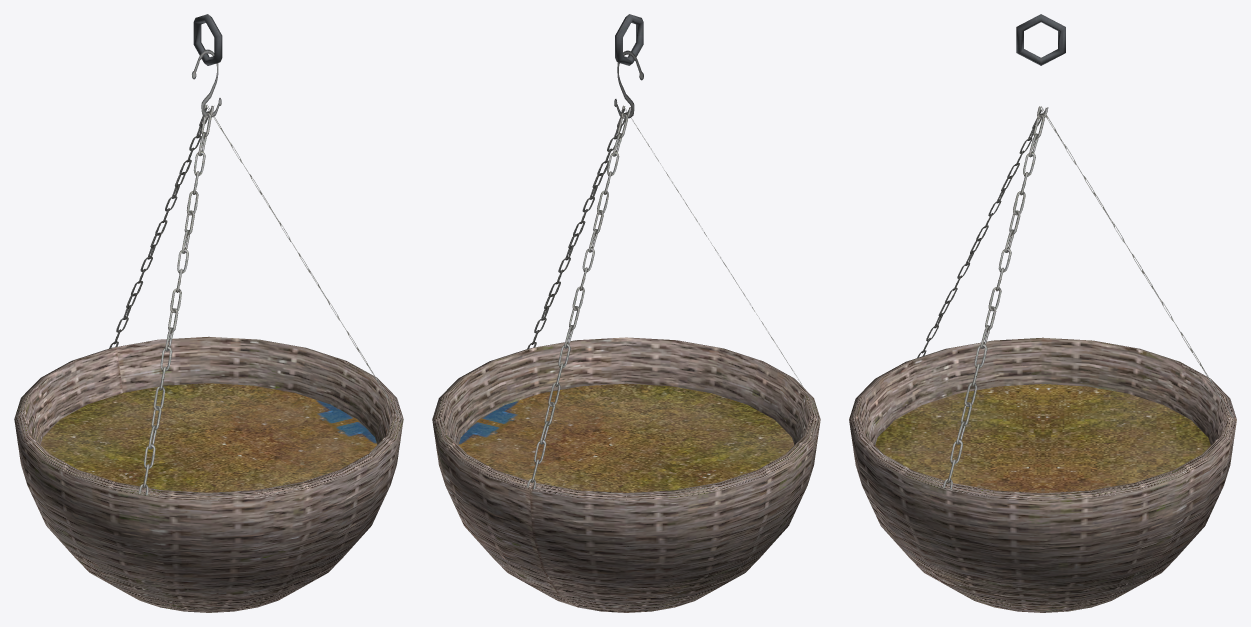
The model's file is SM_Flower_Hanging_01.glb.
The picture shows the model from 3 angles, left to right: view 1: azimuth 30°, elevation 25°; view 2: azimuth 150°, elevation 25°; view 3: azimuth 270°, elevation 25°; orthographic projection.
Visible parts, largest first — view 1: SM_Flower_Hanging_01; view 2: SM_Flower_Hanging_01; view 3: SM_Flower_Hanging_01.
Boxes of the visible parts, left/top/right/bottom form: SM_Flower_Hanging_01: left=14, top=14, right=403, bottom=612; SM_Flower_Hanging_01: left=432, top=14, right=820, bottom=612; SM_Flower_Hanging_01: left=849, top=14, right=1236, bottom=612.
Bounding box in the file's own units: 0.5883 × 0.9714 × 0.5883.
1 material, 1 textured.
